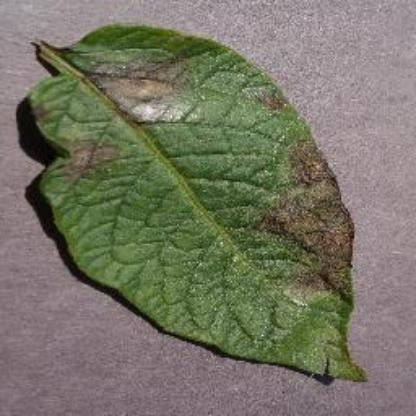Late-Blight: (16, 15, 380, 398)
